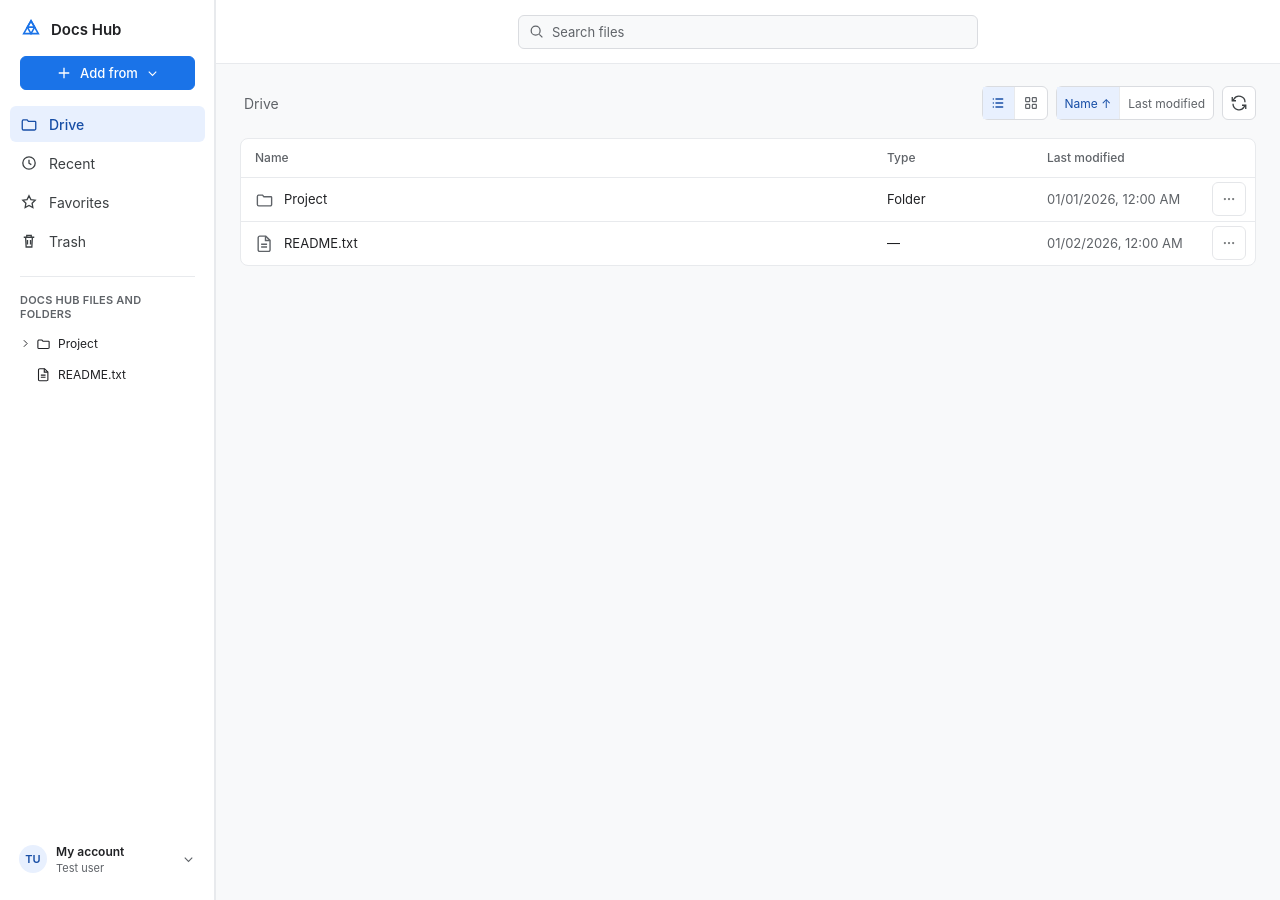
Test: file browser UX › toggles each sort field deterministically and keeps URL-backed state
Expected: the text "↑" is not shown
Click the button "Name ↑". click: (1088, 103)
box: [1056, 87, 1120, 119]
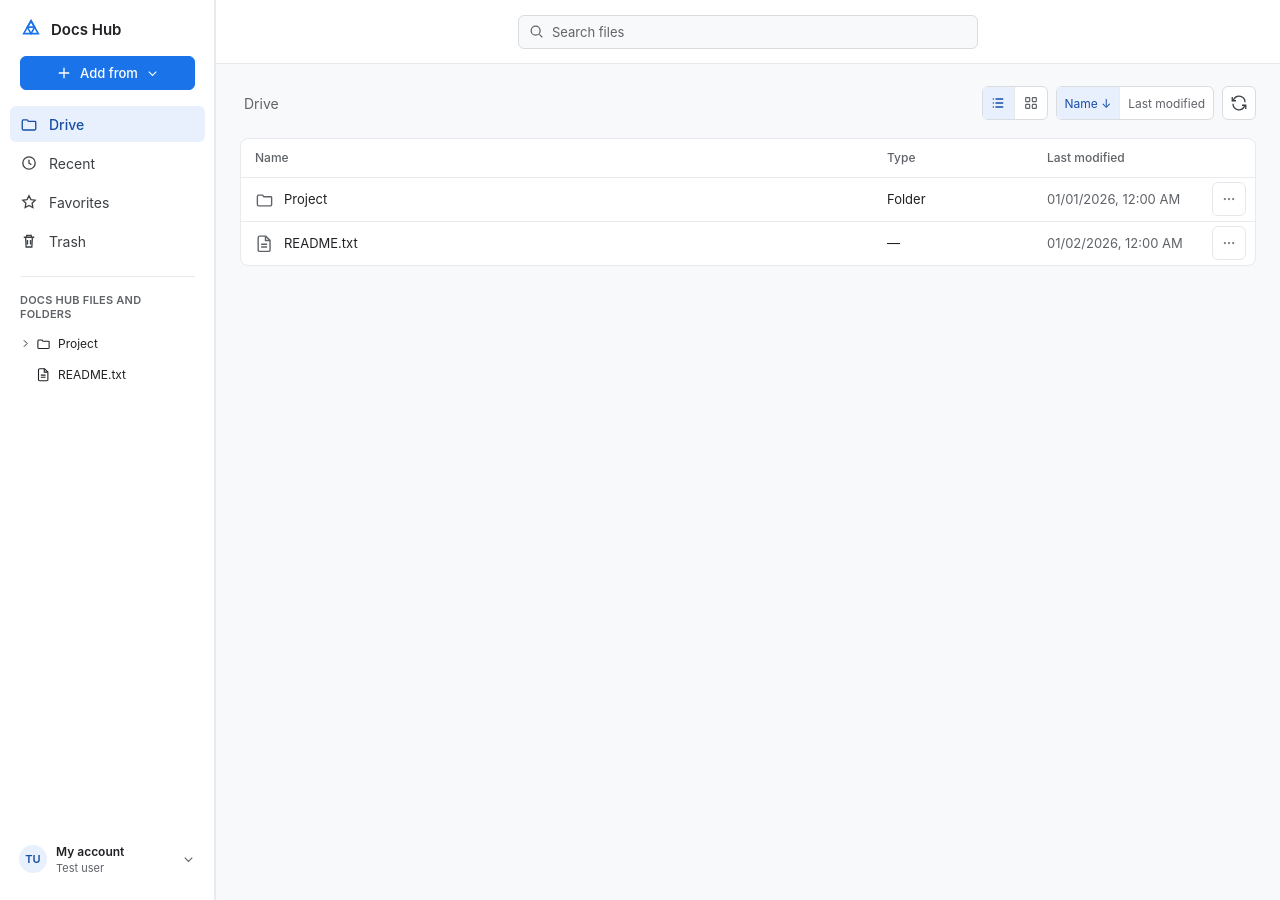
Expected: the button "Name ↓" is shown
Click the button "Name ↓". click: (1088, 103)
box: [1056, 87, 1120, 119]
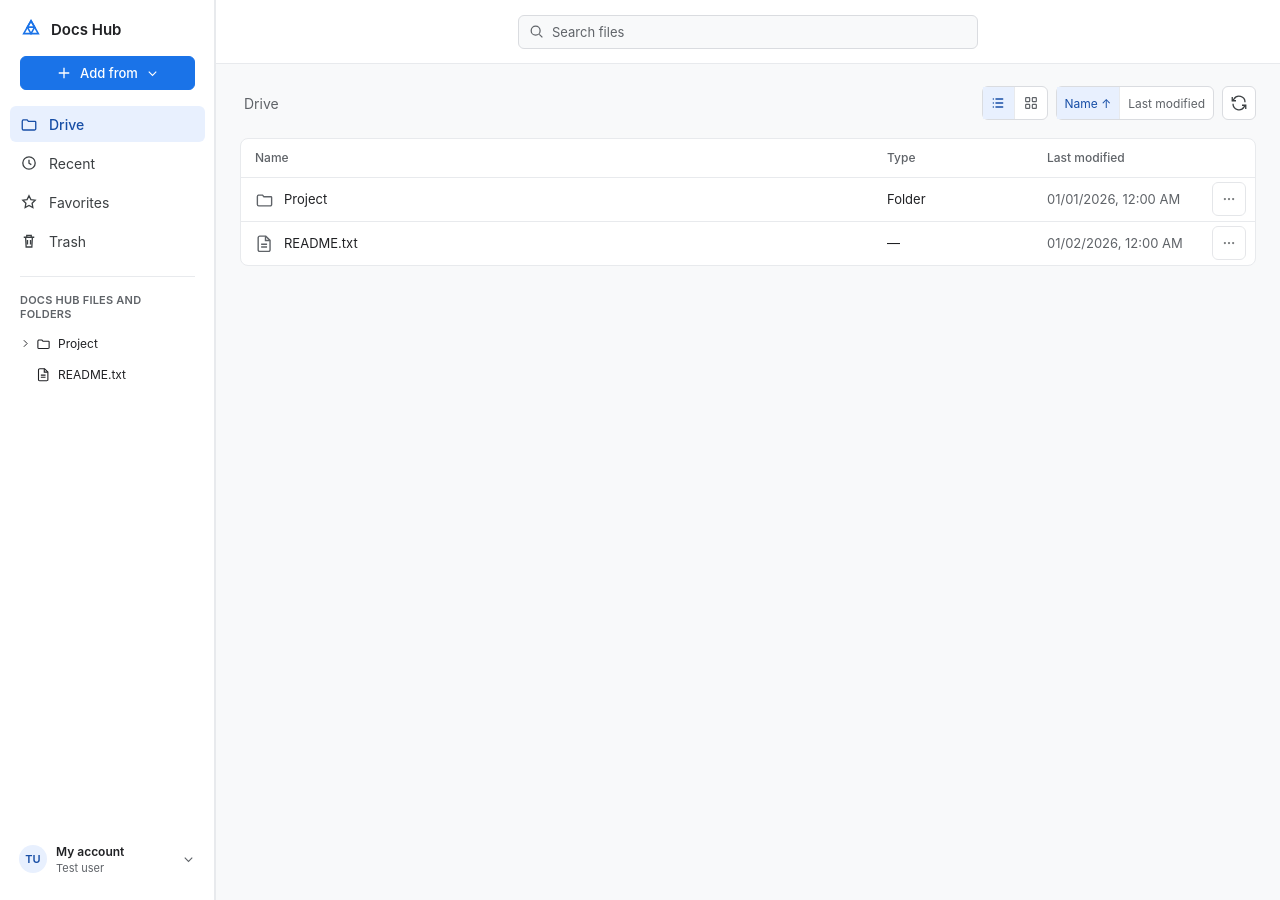
Expected: the button "Name ↑" is shown, [1056, 87, 1120, 119]
Click the button "Last modified". click: (1167, 103)
box: [1120, 87, 1213, 119]
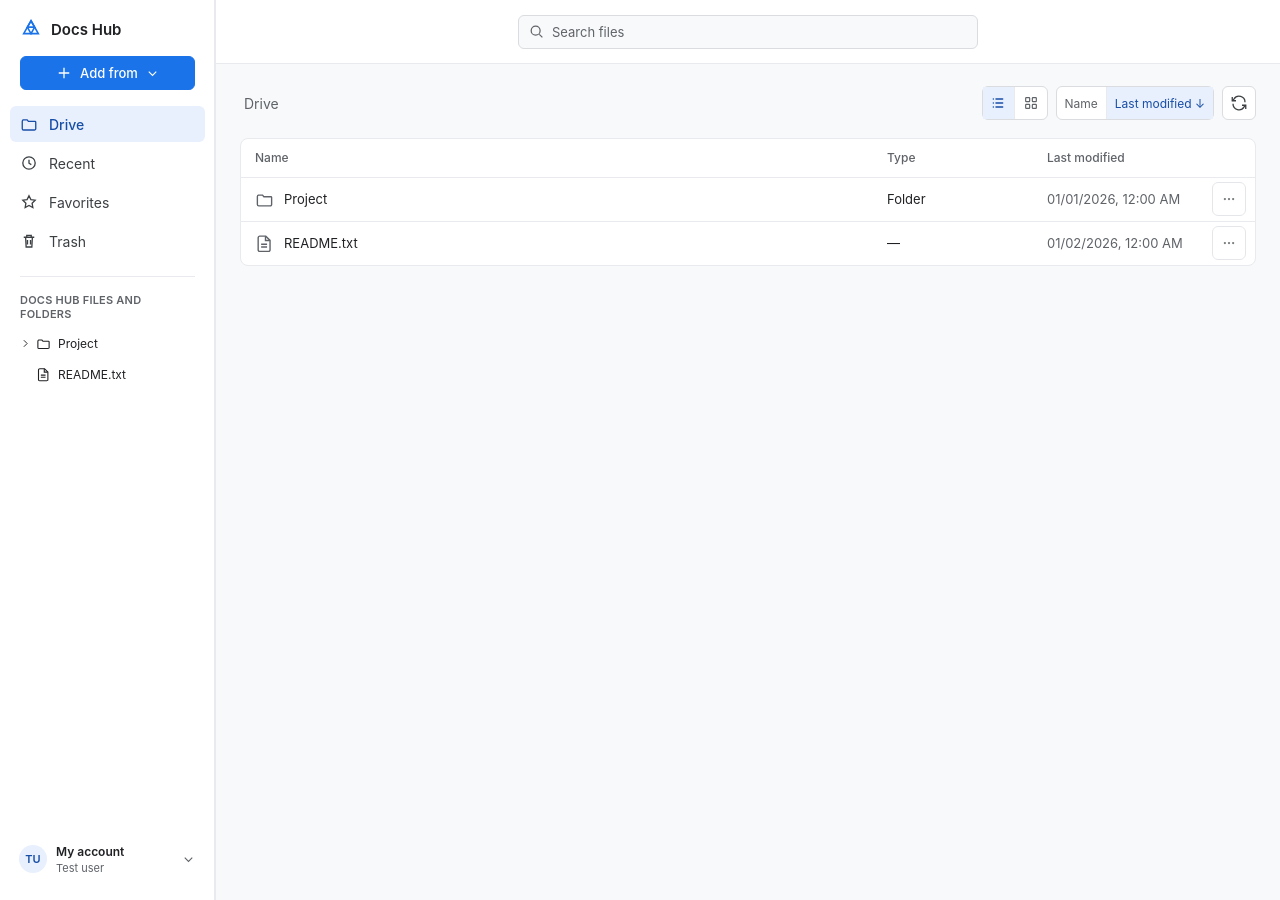
Expected: the button "Last modified ↓" is shown
Click the button "Last modified ↓". click: (1160, 103)
box: [1107, 87, 1213, 119]
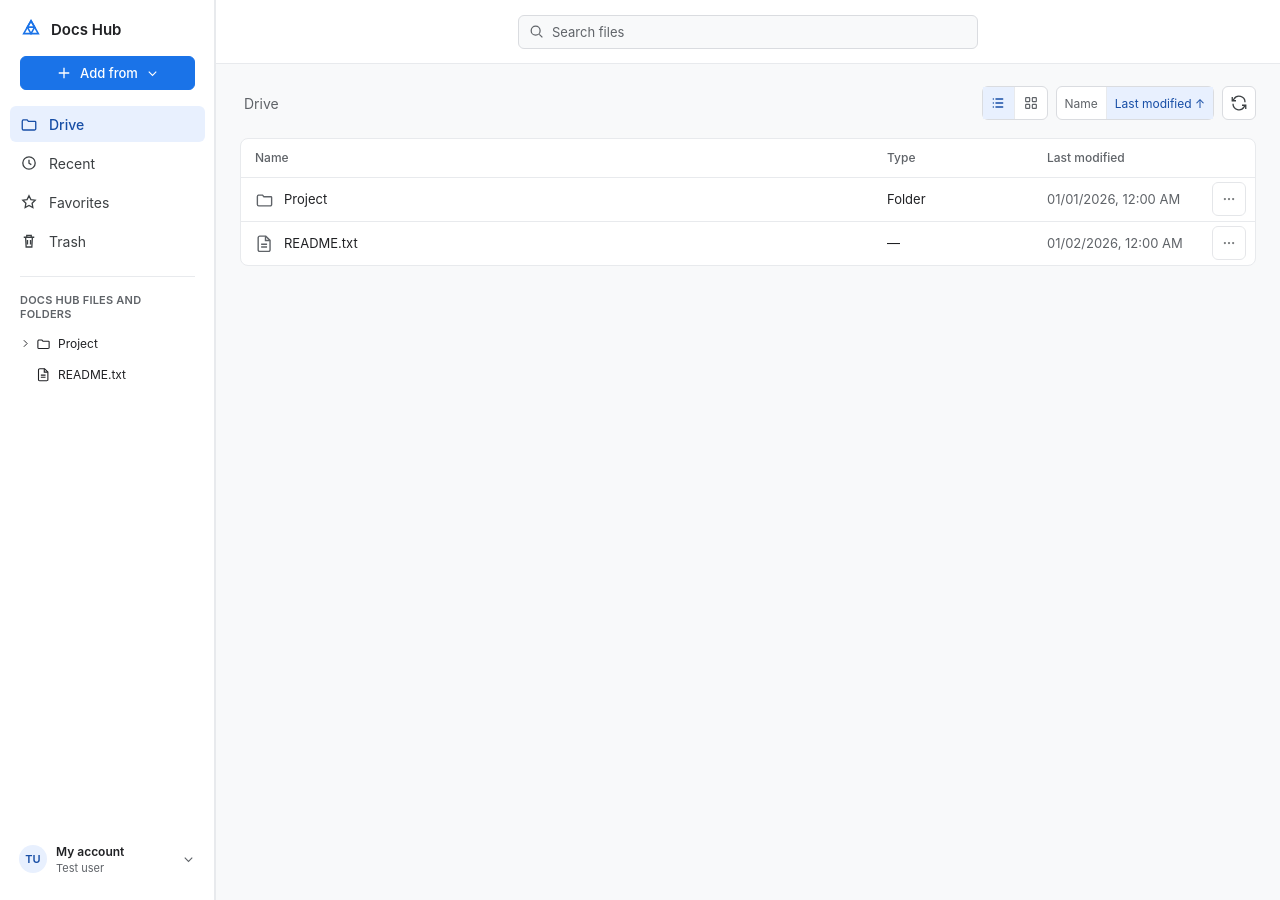
Expected: the button "Last modified ↑" is shown
Click the button "Last modified ↑". click: (1160, 103)
box: [1107, 87, 1213, 119]
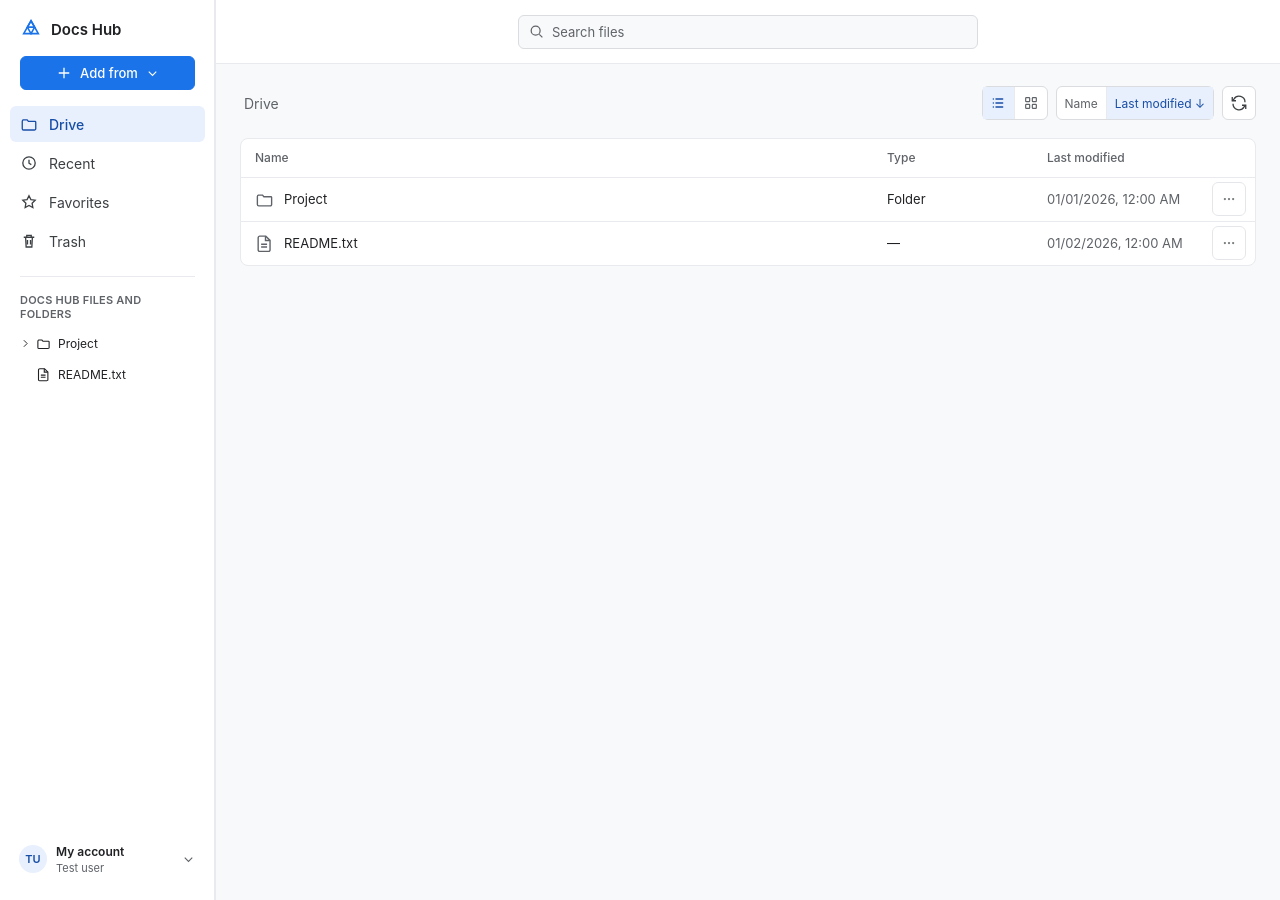
Expected: the button "Last modified ↓" is shown, [1107, 87, 1213, 119]
